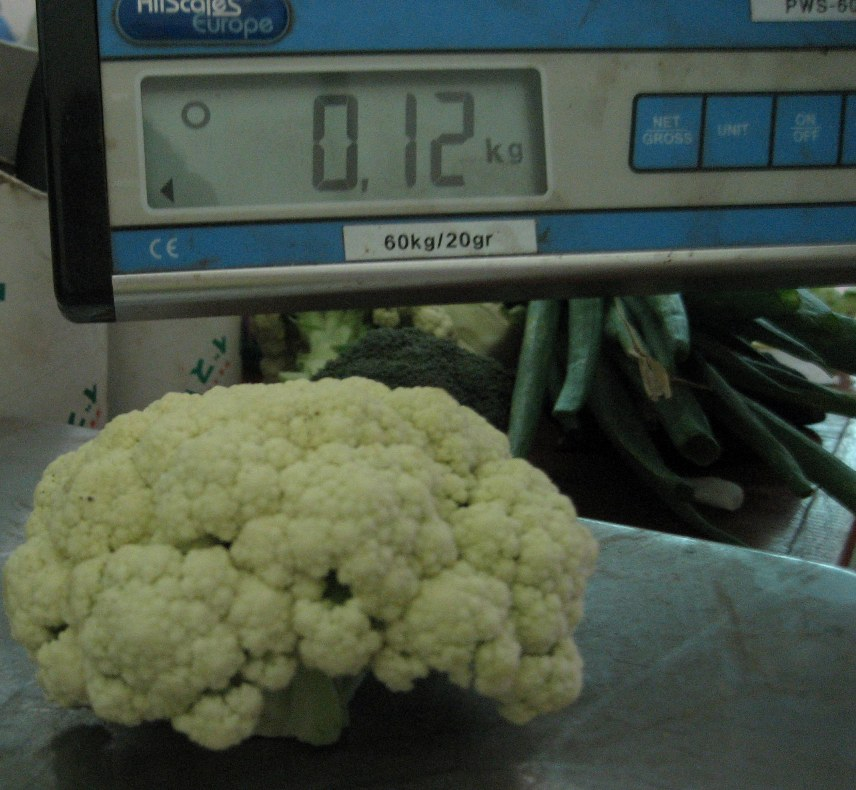cauliflower: (3, 375, 600, 748)
